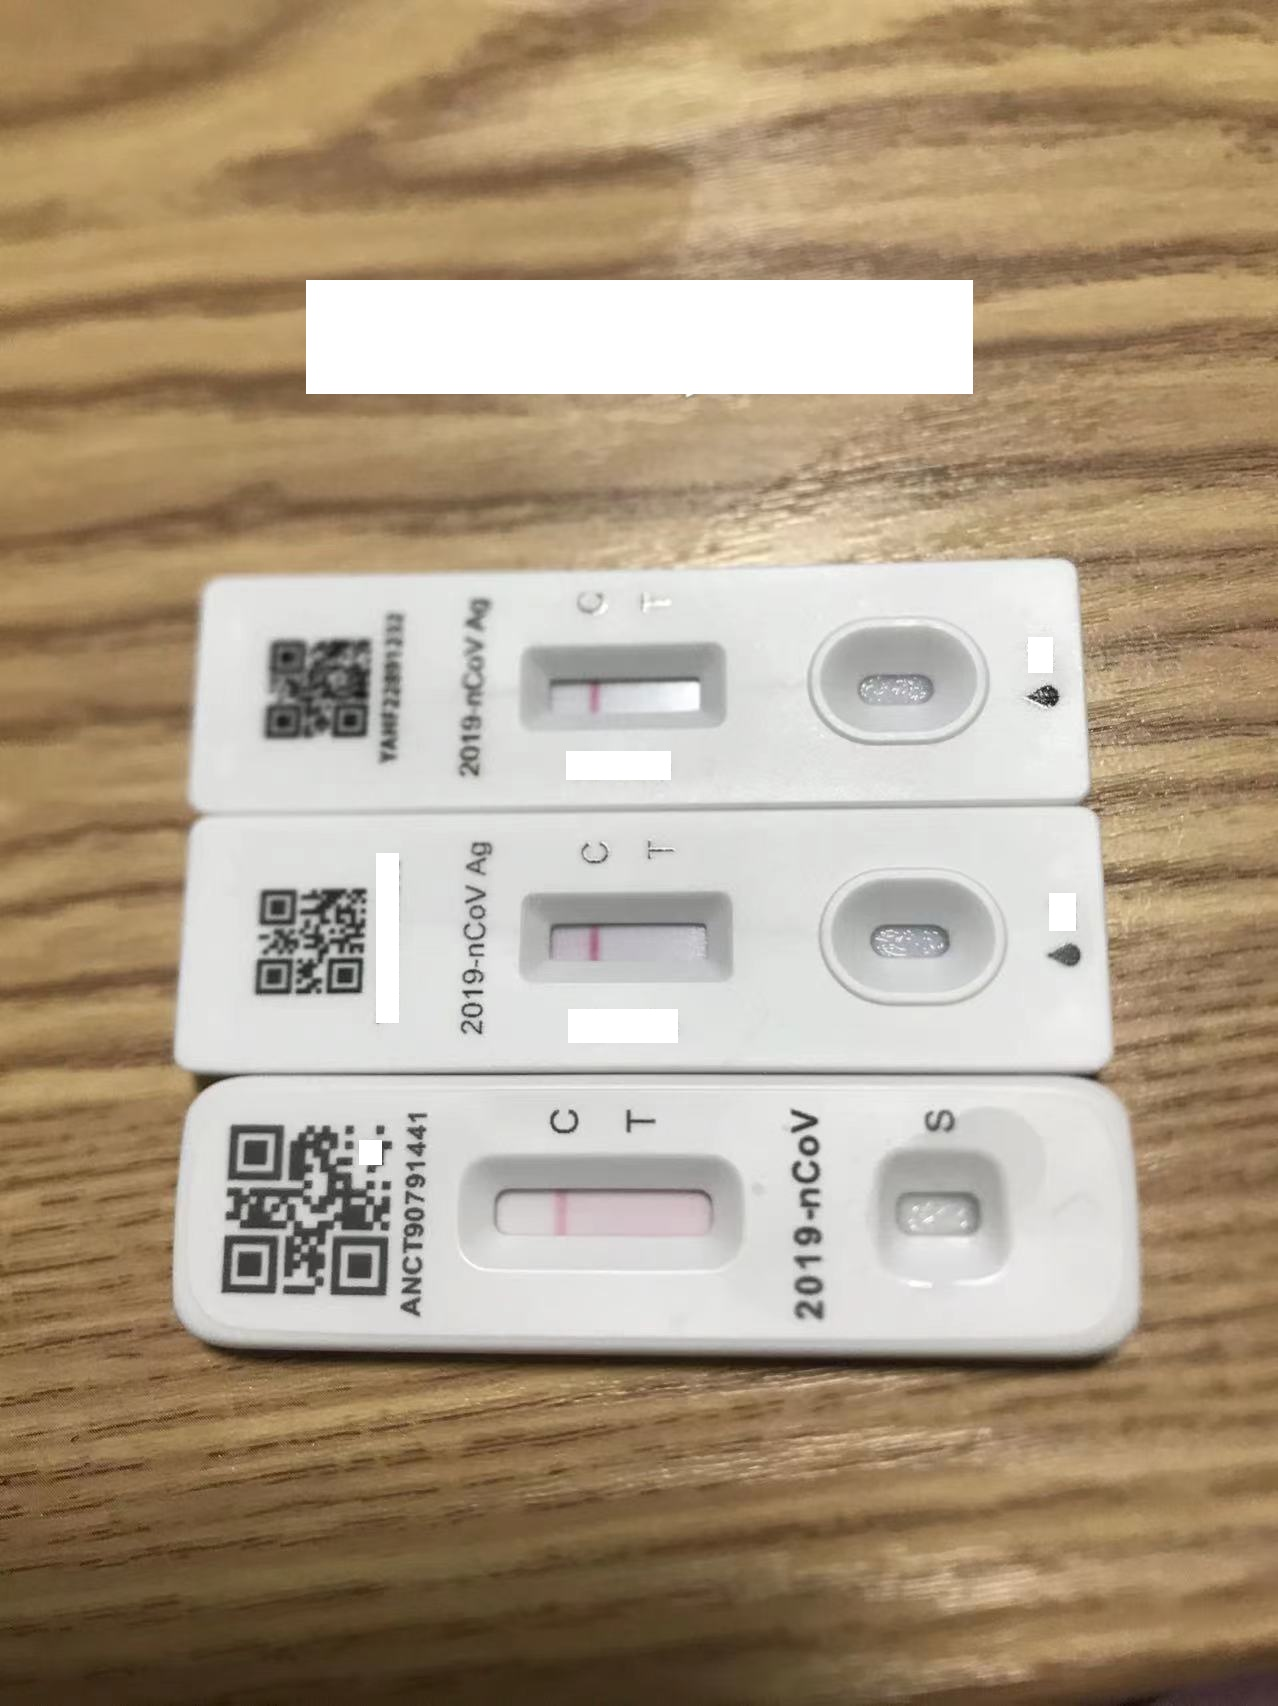negative: (474, 1160, 730, 1270), (515, 891, 746, 981), (515, 643, 736, 726)
